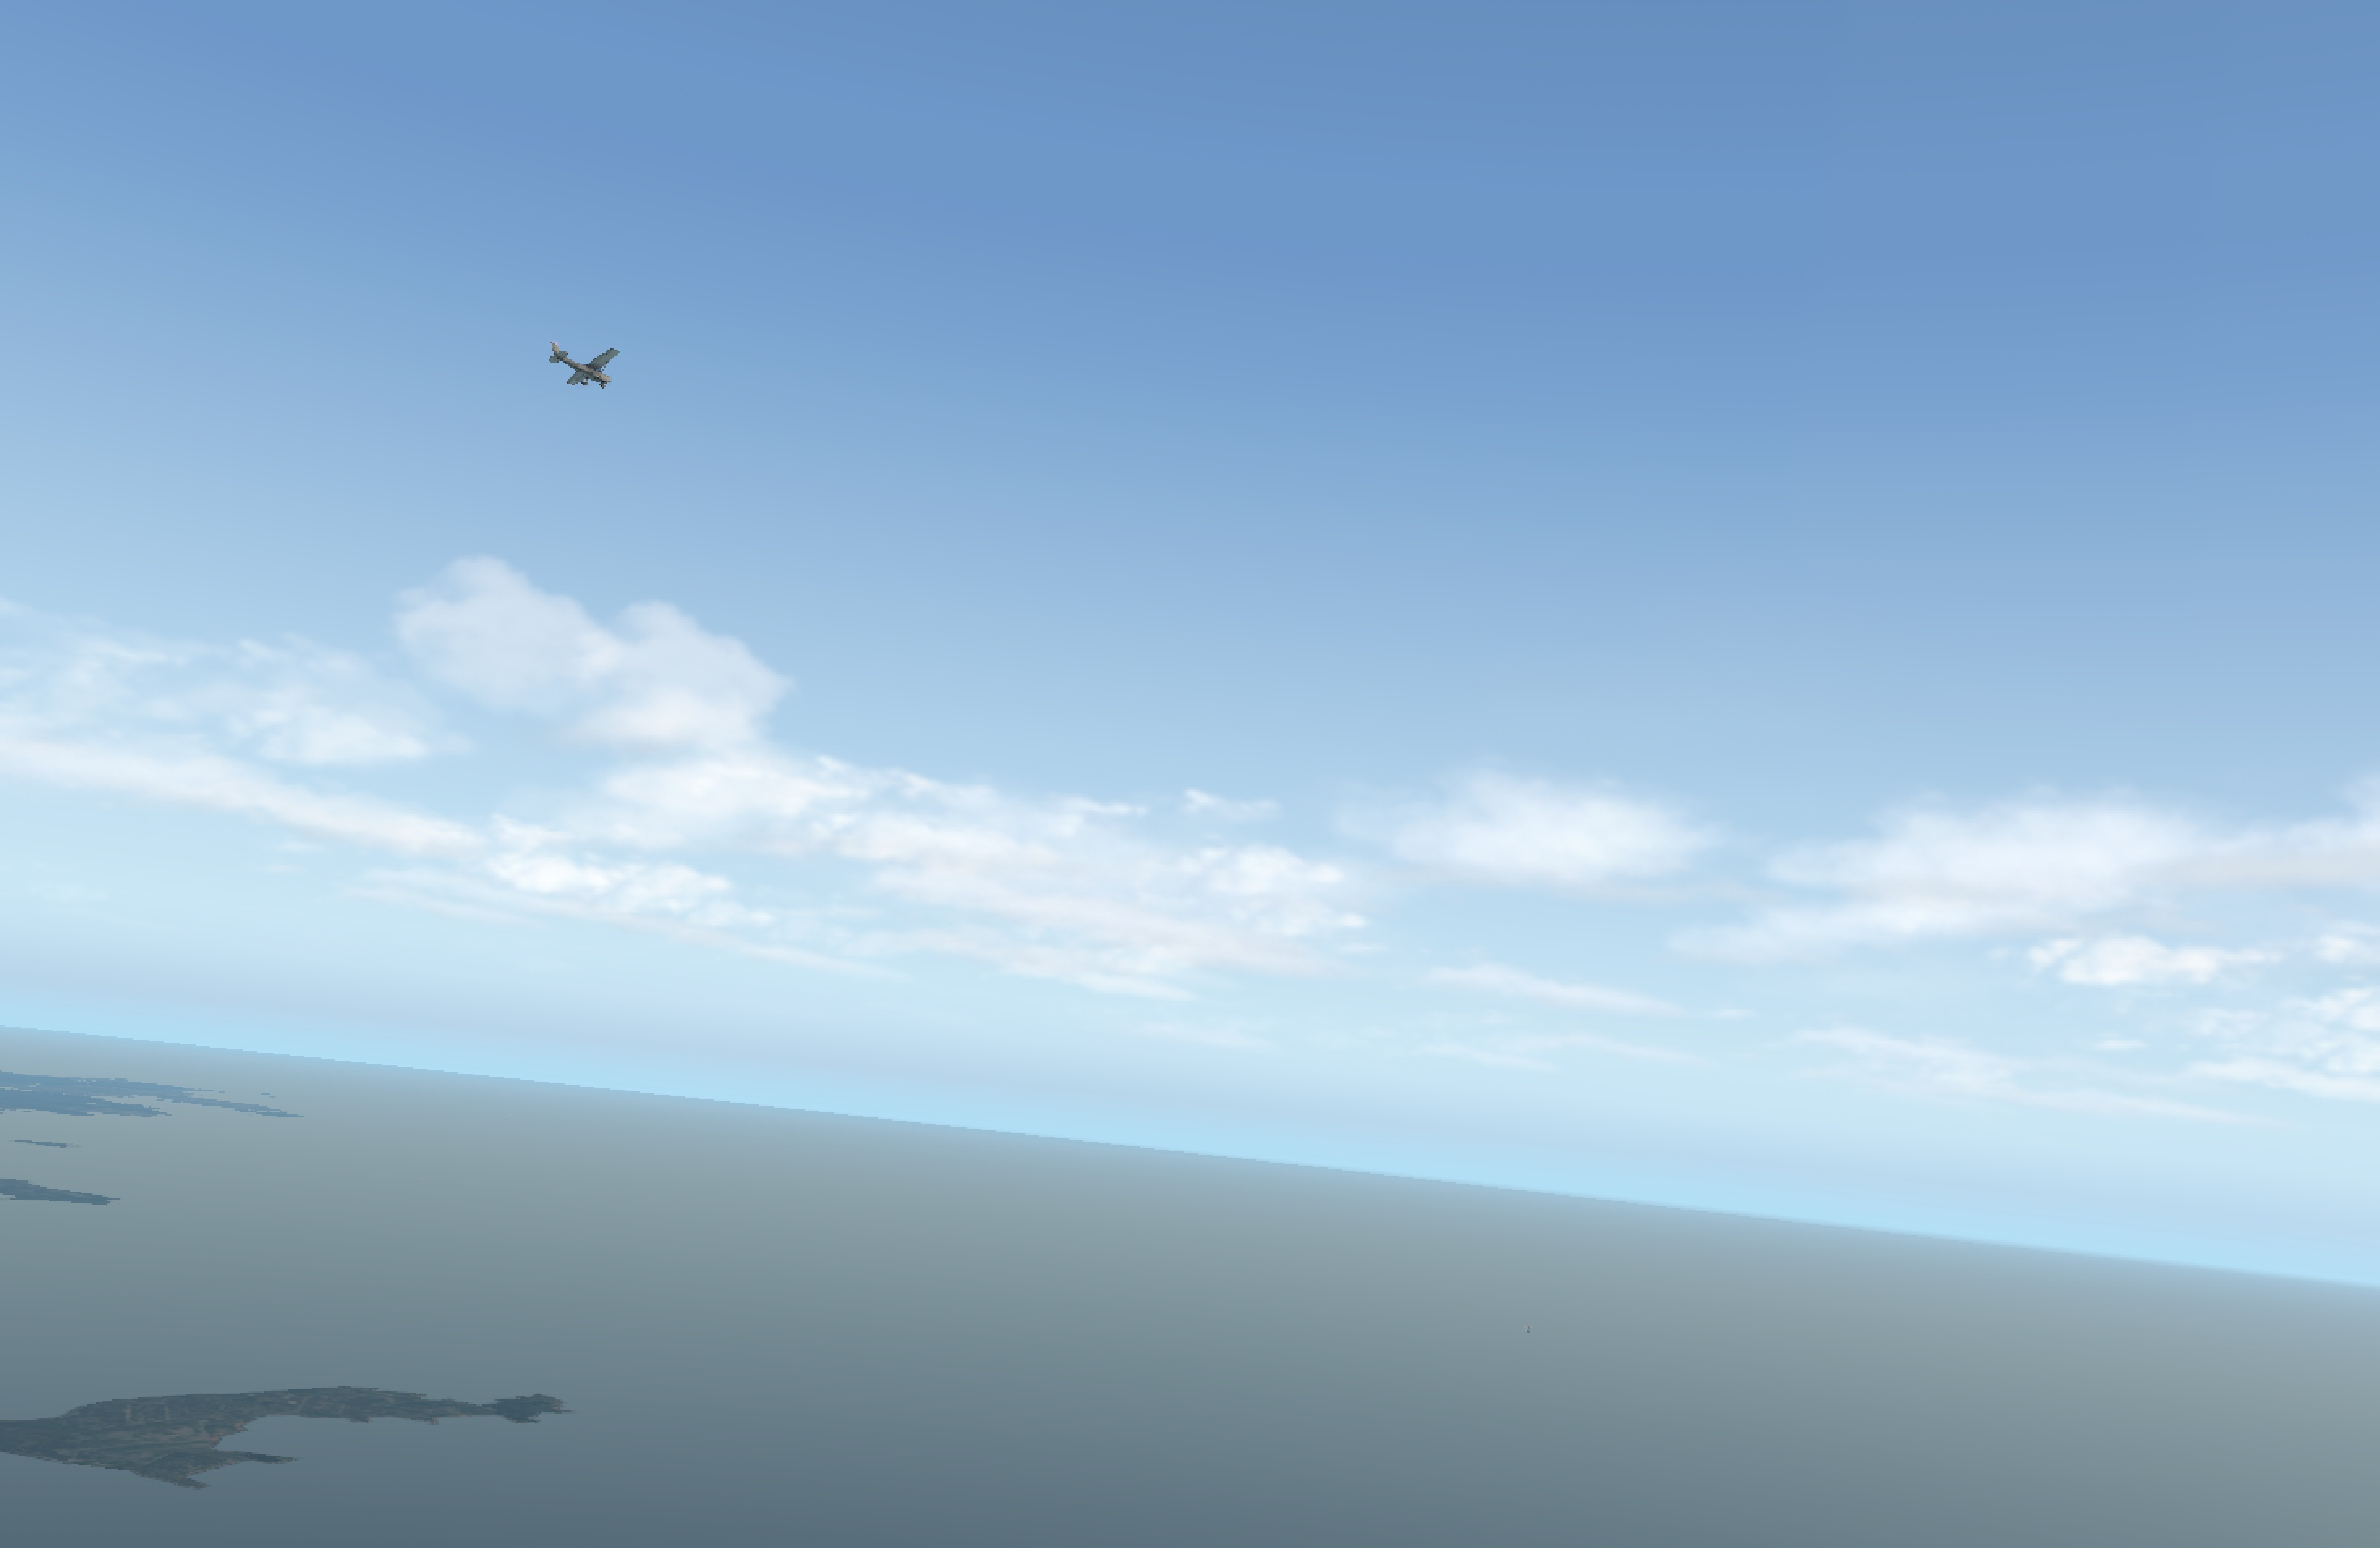aircraft: (562, 361, 624, 385)
